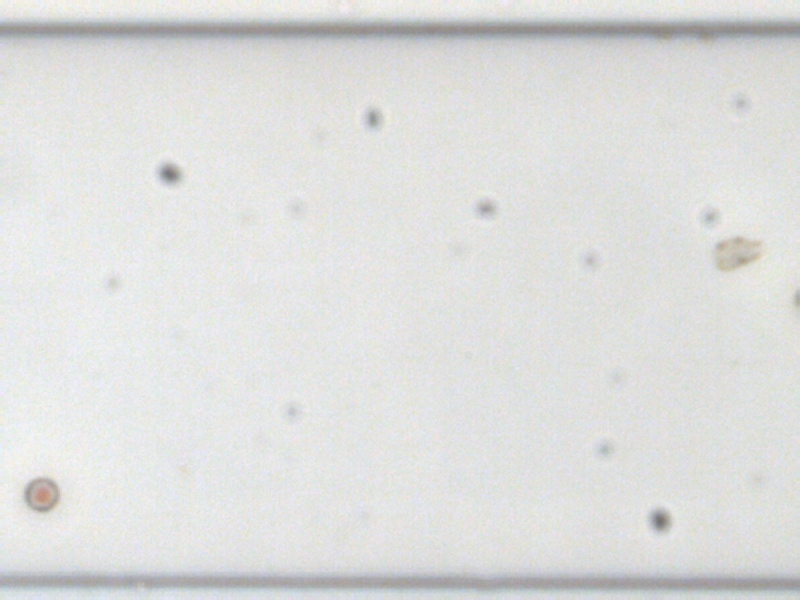Dunaliella salina: (708, 235, 769, 273)
Porphyridium: (22, 475, 59, 512)
